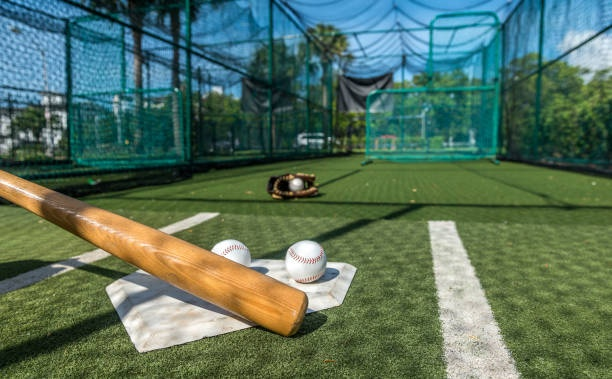bita: (1, 173, 300, 333)
